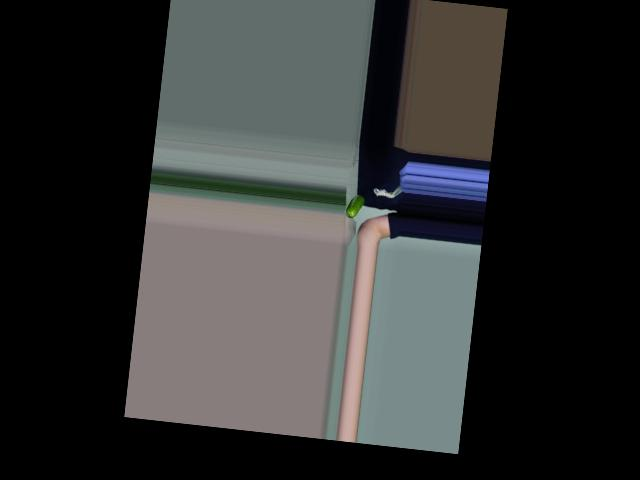cucumber: (344, 194, 364, 219)
